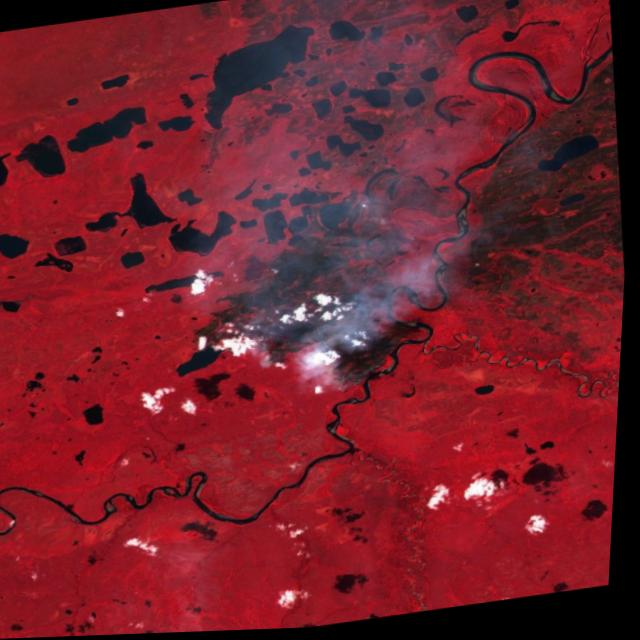fire: (242, 316, 384, 404)
